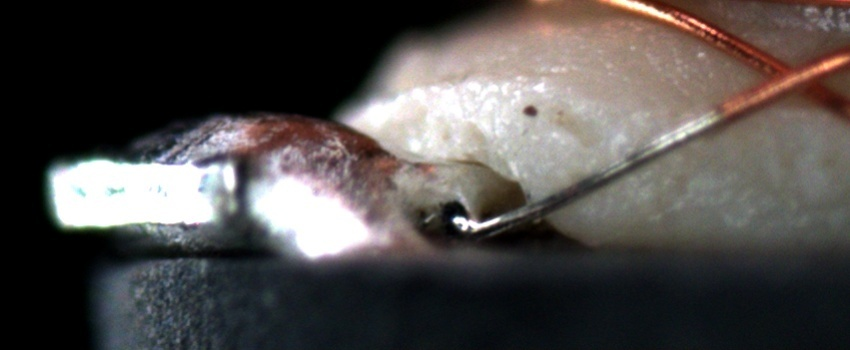CL: (749, 44, 841, 108)
TS: (459, 108, 727, 241)
